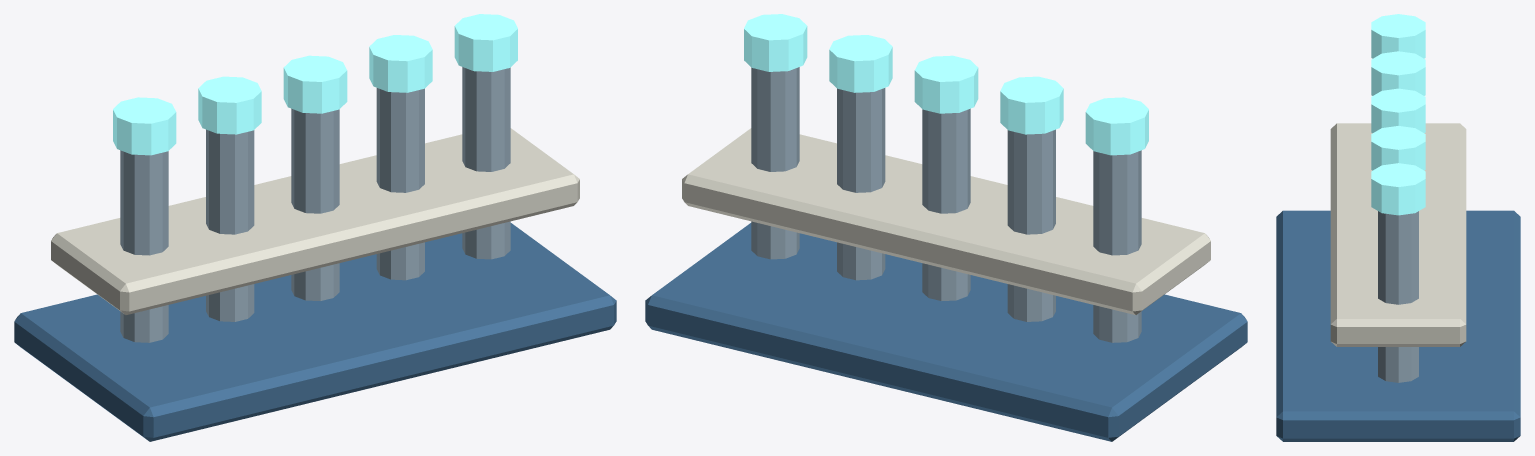
File: sample_tube_display_rack.glb
The picture shows the model from 3 angles, left to right: view 1: azimuth 30°, elevation 25°; view 2: azimuth 150°, elevation 25°; view 3: azimuth 270°, elevation 25°; orthographic projection. The views are drawn at different scales.
Visible parts, largest first — view 1: tube_rack_base, rack_support, sample_tube (×5), tube_cap (×5); view 2: tube_rack_base, rack_support, sample_tube (×5), tube_cap (×5); view 3: tube_rack_base, rack_support, tube_cap (×5), sample_tube.
Boxes of the visible parts, x1,y1,x2,y2 form: tube_rack_base: (14,223,616,441); rack_support: (51,128,579,314); sample_tube (×5): (120,67,510,342); tube_cap (×5): (113,14,517,155); tube_rack_base: (645,223,1247,441); rack_support: (682,128,1210,314); sample_tube (×5): (751,67,1141,342); tube_cap (×5): (744,14,1148,155); tube_rack_base: (1276,210,1520,441); rack_support: (1330,123,1466,346); tube_cap (×5): (1371,14,1425,215); sample_tube: (1378,211,1418,382).
Bounding box in the file's own units: 0.36 × 0.196 × 0.18.
